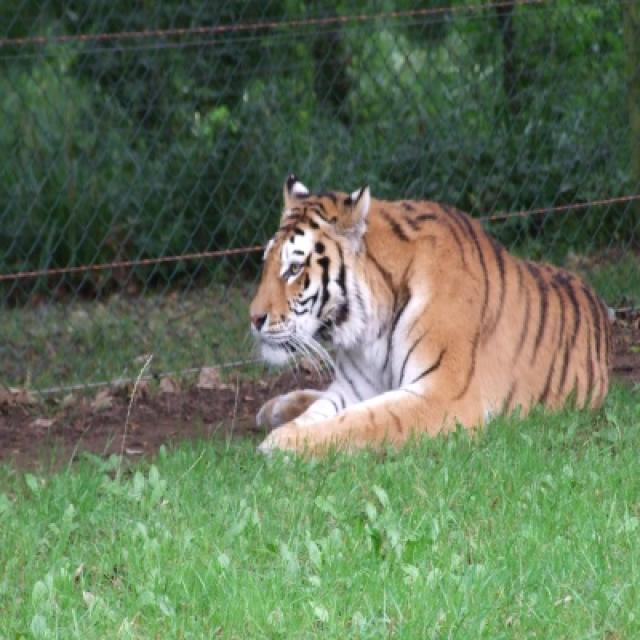Tiger: (250, 172, 612, 456)
